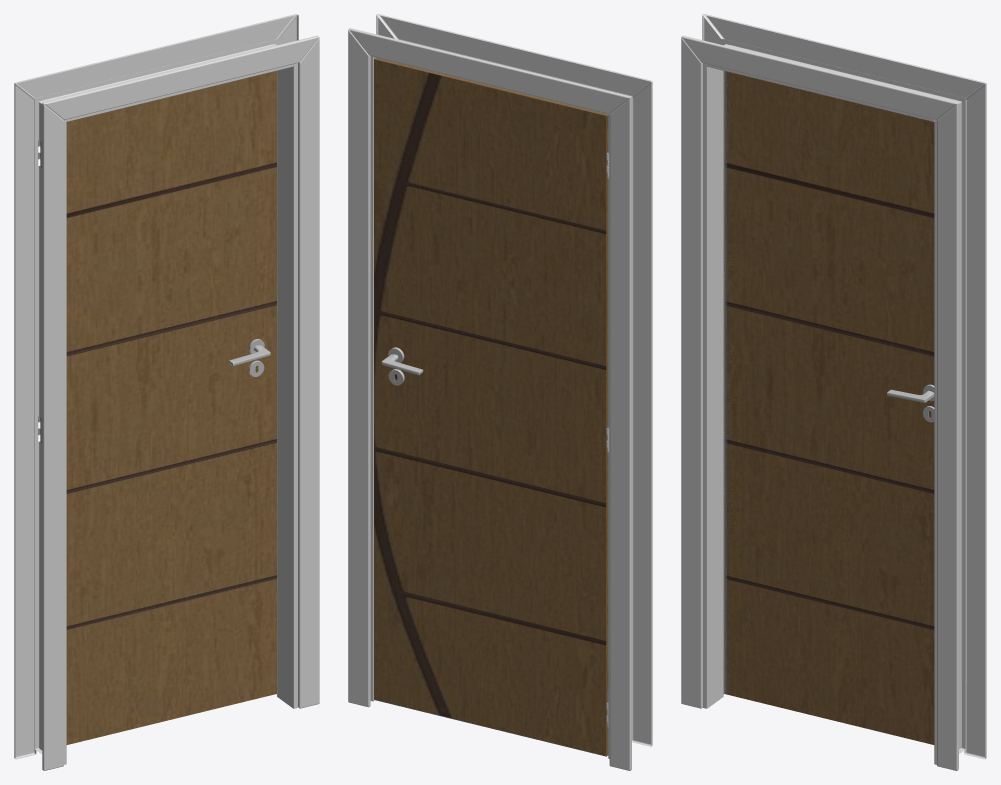
The model's file is door_hurensohn.fbx.
3 views of the same model, side by side, from view 1: azimuth 30°, elevation 25°; view 2: azimuth 150°, elevation 25°; view 3: azimuth 330°, elevation 25° (orthographic).
Visible parts, largest first — view 1: Porta pB186, Cube.003, Cube.006, Cube.002, Cube, Cube.004, Cube.009, Cube.008, Cube.001; view 2: Porta pB186, Cube.002, Cube.007, Cube.003, Cube.008, Cube.009, Cube, Cube.004; view 3: Porta pB186, Cube.007, Cube.006, Cube.003, Cube.004, Cube, Cube.009, Cube.008, Cube.001.
Boxes of the visible parts, box(x1,y1,x2,y2) form: Porta pB186: box(40, 71, 276, 744); Cube.003: box(42, 103, 63, 770); Cube.006: box(298, 37, 319, 708); Cube.002: box(14, 83, 36, 759); Cube: box(275, 43, 297, 708); Cube.004: box(35, 102, 66, 764); Cube.009: box(42, 35, 319, 119); Cube.008: box(15, 14, 297, 98); Cube.001: box(35, 39, 293, 121); Porta pB186: box(374, 58, 609, 756); Cube.002: box(609, 97, 631, 770); Cube.007: box(348, 29, 370, 707); Cube.003: box(632, 81, 652, 746); Cube.008: box(349, 28, 630, 113); Cube.009: box(377, 14, 651, 97); Cube: box(370, 57, 375, 701); Cube.004: box(608, 115, 609, 758); Porta pB186: box(723, 71, 934, 744); Cube.007: box(964, 83, 986, 759); Cube.006: box(937, 103, 958, 770); Cube.003: box(681, 37, 702, 708); Cube.004: box(703, 43, 724, 708); Cube: box(934, 102, 965, 764); Cube.009: box(681, 35, 957, 119); Cube.008: box(702, 14, 985, 98); Cube.001: box(707, 39, 965, 121).
Bounding box in the file's own units: 96.72 × 221 × 22.05.
Materials: 5 (1 with a texture image).
